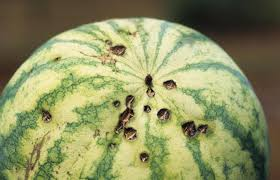damaged_watermelon: (12, 29, 255, 180)
